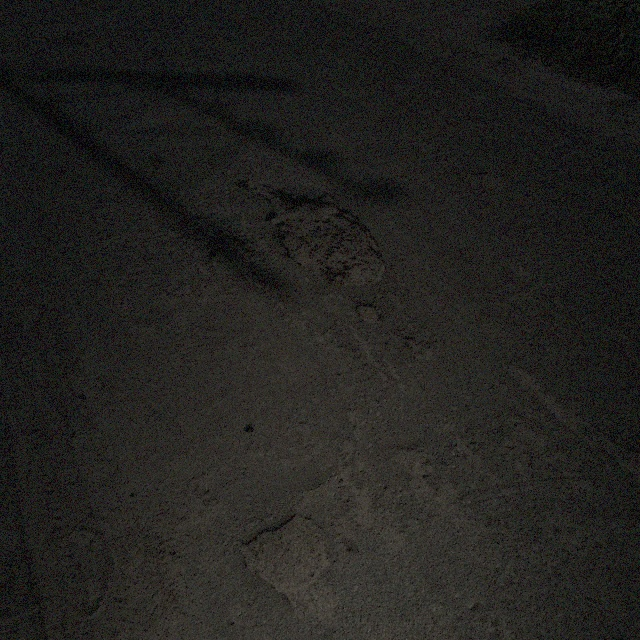pothole: (239, 175, 392, 289), (236, 508, 340, 617), (206, 231, 270, 291), (597, 427, 639, 482), (455, 165, 508, 194)
